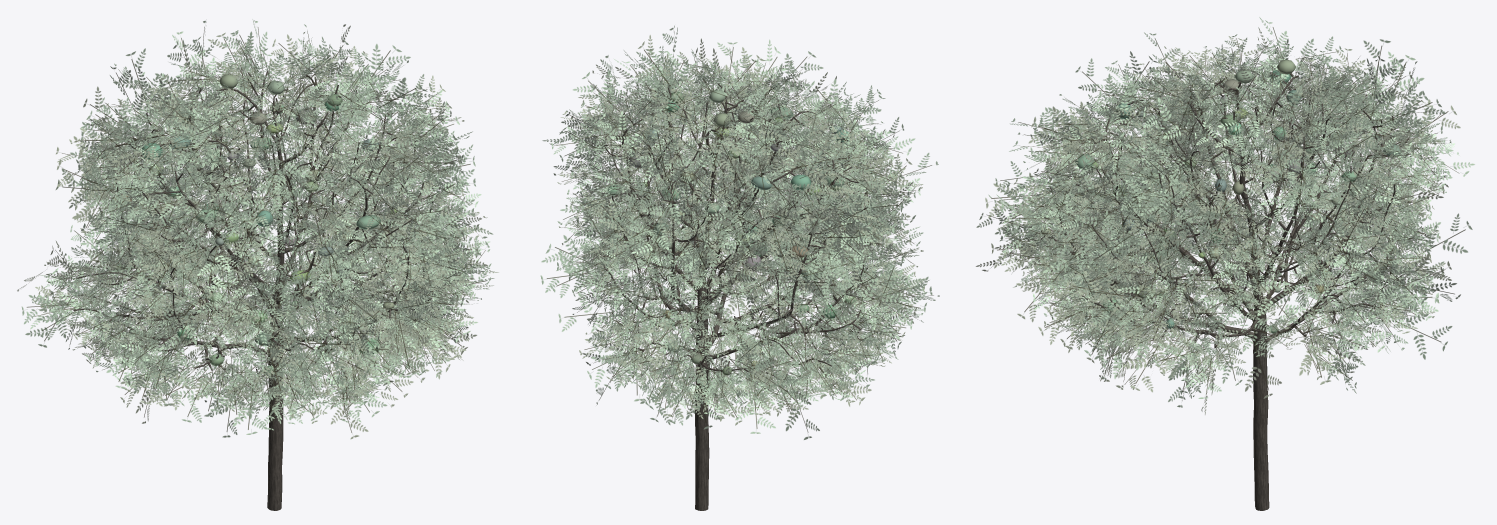
The model's file is tree_32_broadleaf.glb.
3 renders of one model, left to right at view 1: azimuth 30°, elevation 25°; view 2: azimuth 150°, elevation 25°; view 3: azimuth 270°, elevation 25°, orthographic. The views are drawn at different scales.
Visible parts, largest first — view 1: tree_32_broadleaf.leaves, tree_32_broadleaf.trunk_branches, tree_32_broadleaf.foliage_volume; view 2: tree_32_broadleaf.leaves, tree_32_broadleaf.trunk_branches, tree_32_broadleaf.foliage_volume; view 3: tree_32_broadleaf.leaves, tree_32_broadleaf.trunk_branches, tree_32_broadleaf.foliage_volume.
Boxes of the visible parts, x1=… form: tree_32_broadleaf.leaves: x1=17, y1=19, x2=498, y2=439; tree_32_broadleaf.trunk_branches: x1=73, y1=71, x2=433, y2=510; tree_32_broadleaf.foliage_volume: x1=113, y1=74, x2=418, y2=375; tree_32_broadleaf.leaves: x1=540, y1=25, x2=939, y2=439; tree_32_broadleaf.trunk_branches: x1=602, y1=76, x2=878, y2=510; tree_32_broadleaf.foliage_volume: x1=607, y1=90, x2=873, y2=375; tree_32_broadleaf.leaves: x1=976, y1=17, x2=1474, y2=414; tree_32_broadleaf.trunk_branches: x1=1040, y1=71, x2=1408, y2=510; tree_32_broadleaf.foliage_volume: x1=1041, y1=59, x2=1401, y2=333.
Size of the model in its own units: 9.92 by 11.92 by 11.62.
3 materials, 2 textured.
